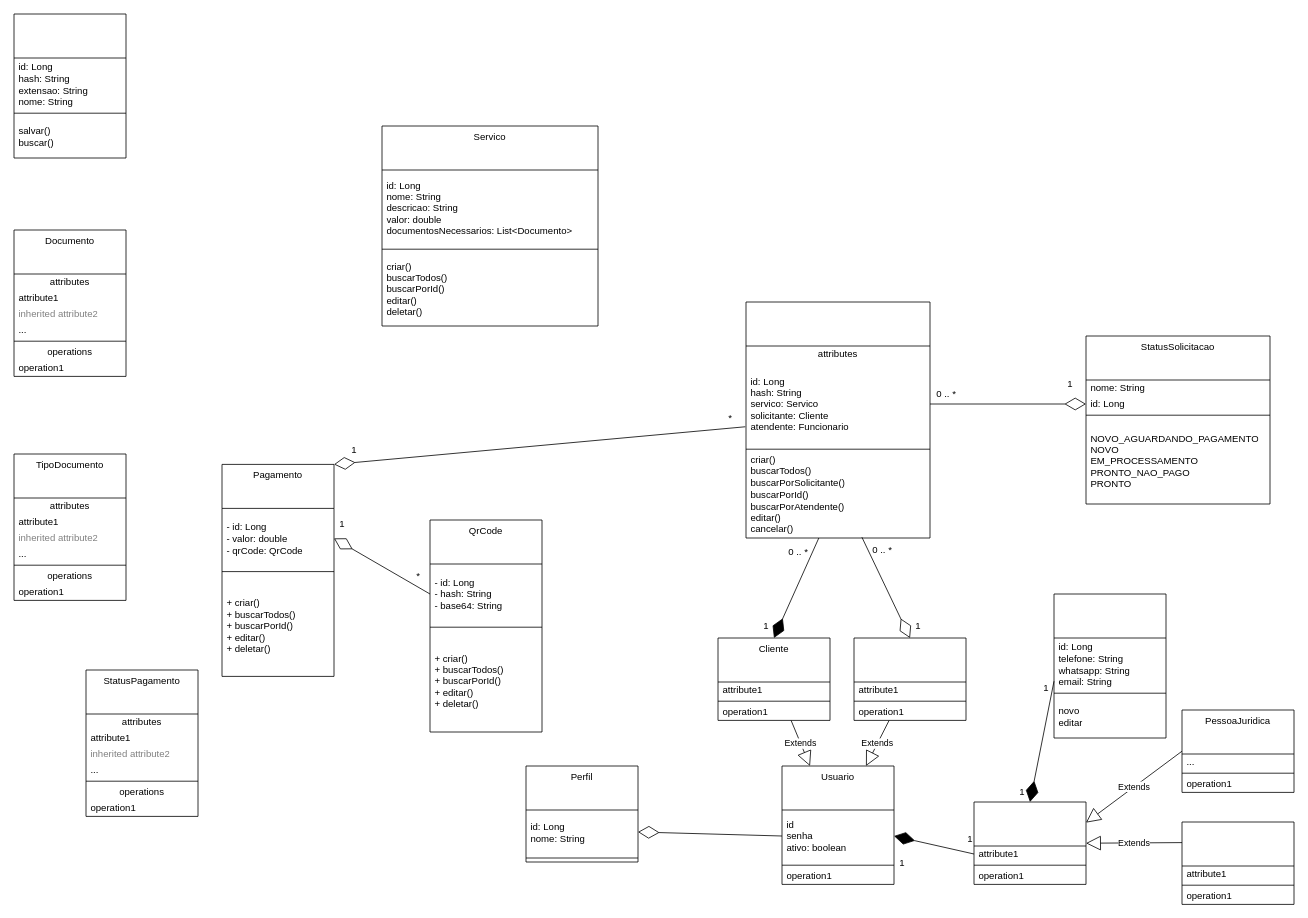
Image size: 1308x918. Some labels were removed from this diagram. The shapes that lost their labels are listed below. From the top down, each one's box as (x1, y1, x2, y2) in pixels, then its label:
(13, 13, 126, 158): Anexo
(745, 301, 930, 538): Solicitacao
(853, 637, 966, 720): Funcionario
(1053, 593, 1166, 738): Contato
(973, 801, 1086, 884): Pessoa
(1181, 821, 1294, 904): PessoaFisica
